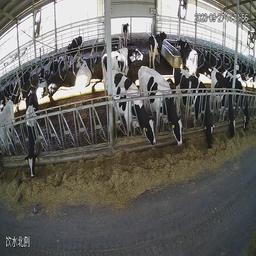cow: (103, 70, 155, 157), (139, 60, 183, 154), (173, 61, 215, 155), (210, 66, 237, 141), (24, 88, 43, 183), (102, 43, 145, 70), (176, 36, 199, 75), (48, 58, 70, 98), (237, 78, 250, 133), (148, 25, 167, 62), (73, 57, 91, 92), (34, 65, 48, 98), (66, 34, 83, 56), (119, 18, 130, 44)
